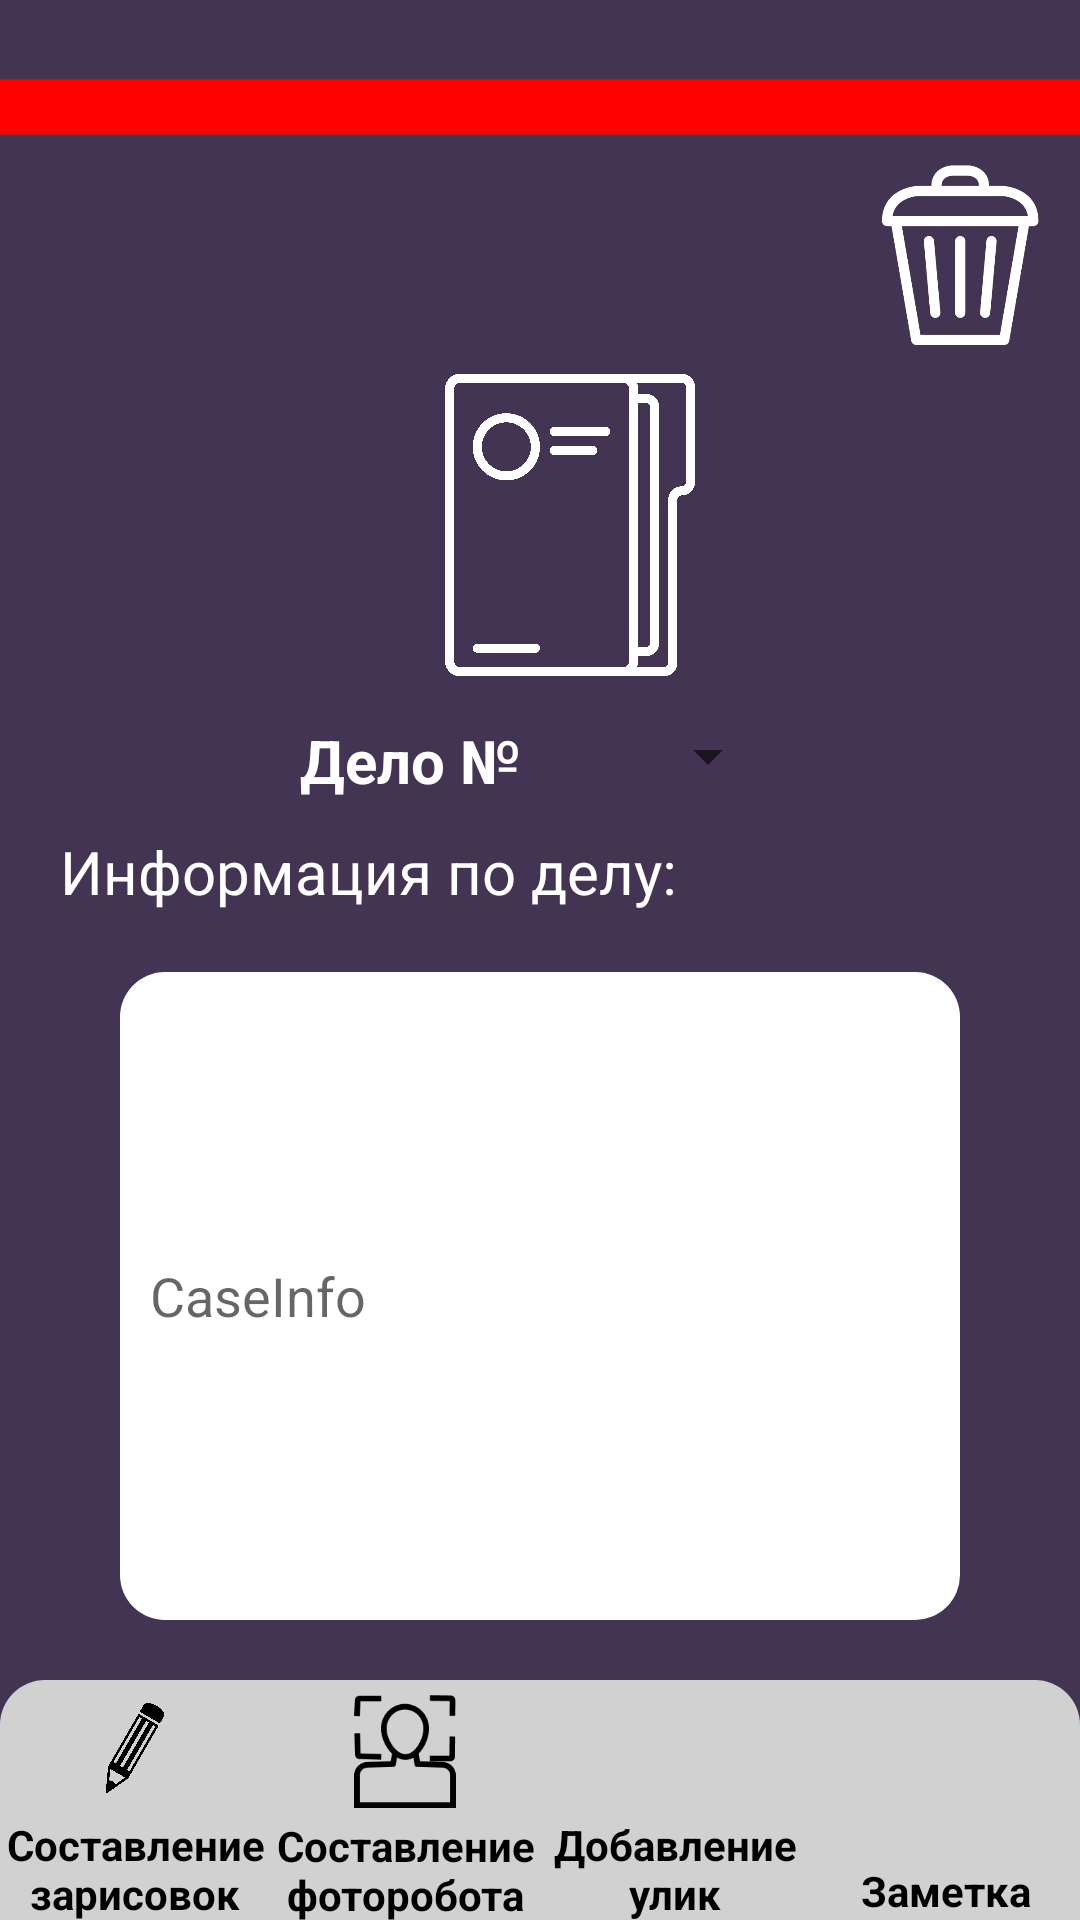

Icon click points for this 1080×1920 phone screenshot, format (x,y):
folder: (570,525)
pencil: (135,1748)
Photorobot: (405,1751)
trashcan: (960,255)
